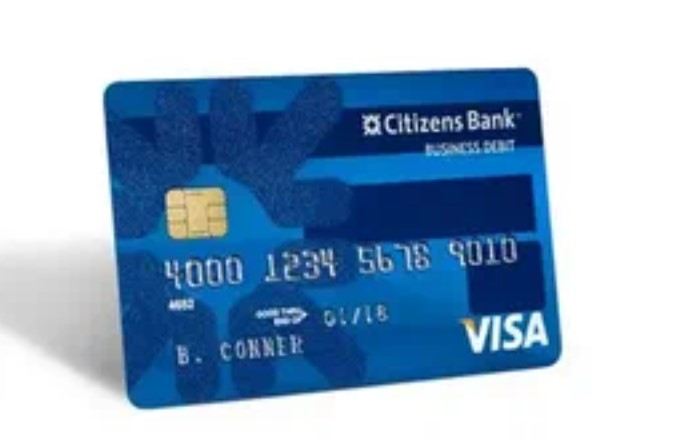card: (103, 68, 563, 408)
